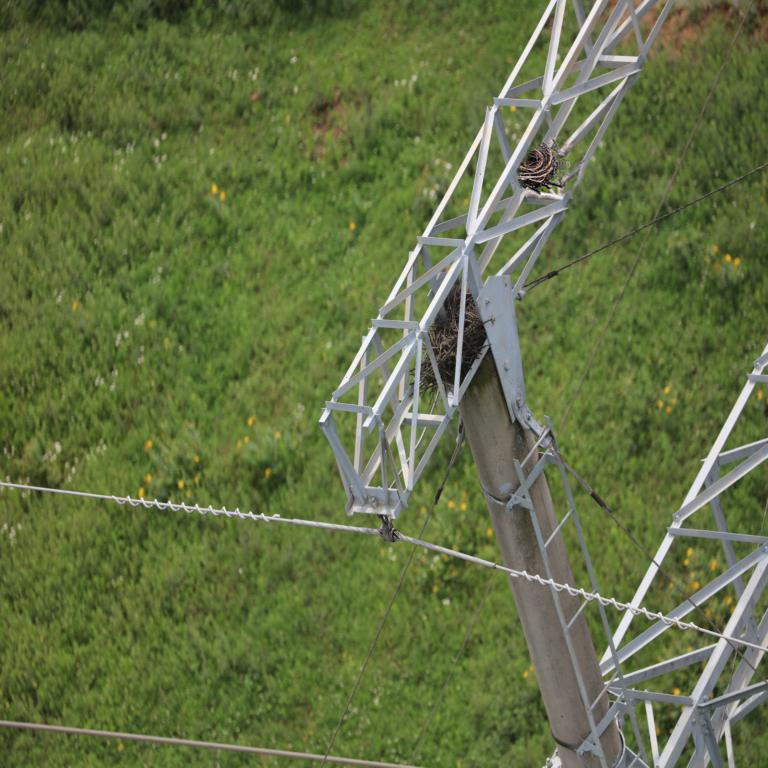nest: (427, 285, 489, 384), (520, 140, 557, 191)
